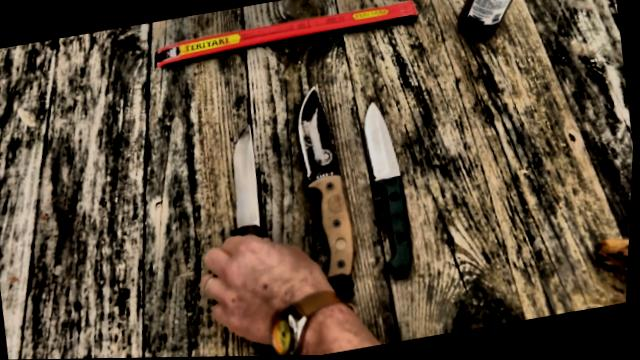knife: (169, 110, 295, 292), (280, 73, 363, 210), (352, 89, 418, 201)
